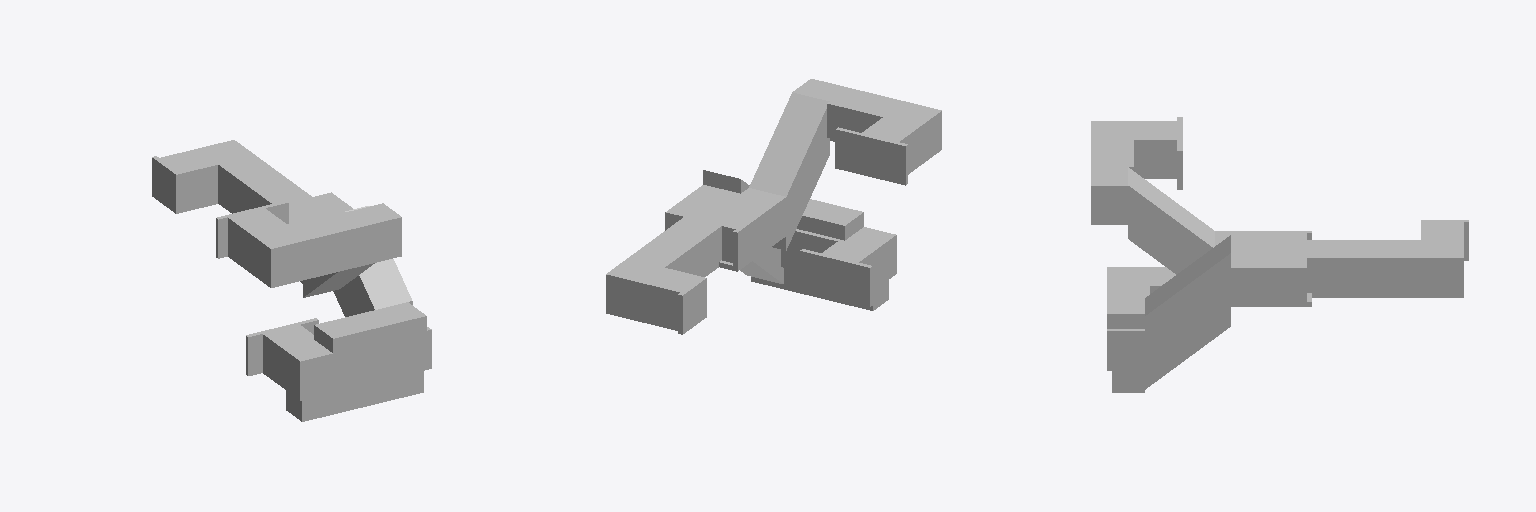
The model's file is fuller_stairs.obj.
3 views of the same model, side by side, from view 1: azimuth 30°, elevation 25°; view 2: azimuth 150°, elevation 25°; view 3: azimuth 270°, elevation 25° (orthographic).
Visible parts, largest first — view 1: plane, cuboid; view 2: plane, cuboid; view 3: plane, cuboid.
Part boxes in pixels (x1,y1,x2,y2): plane: (152, 140, 431, 421); cuboid: (303, 206, 412, 316); plane: (606, 79, 941, 334); cuboid: (703, 92, 829, 283); plane: (1091, 117, 1468, 392); cuboid: (1128, 167, 1230, 389).
Size of the model in its own units: 2.38 by 2.44 by 4.38.